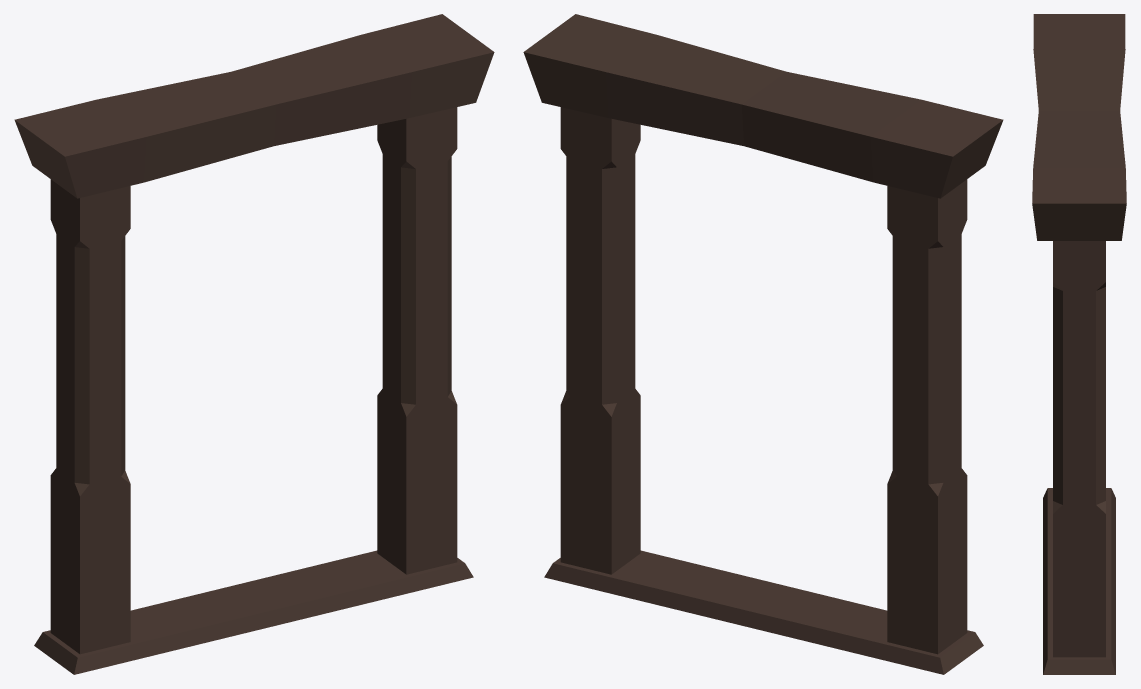
The model's file is LPHorror_WideDoorFrame.fbx.
3 renders of one model, left to right at view 1: azimuth 30°, elevation 25°; view 2: azimuth 150°, elevation 25°; view 3: azimuth 270°, elevation 25°, orthographic. The views are drawn at different scales.
Visible parts, largest first — view 1: WideDoorFrame; view 2: WideDoorFrame; view 3: WideDoorFrame.
Boxes of the visible parts, <box> form: WideDoorFrame: <box>14,14,494,674</box>; WideDoorFrame: <box>523,14,1003,674</box>; WideDoorFrame: <box>1032,14,1126,674</box>.
Bounding box in the file's own units: 263 × 308 × 55.3.
